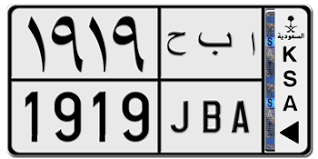1: (24, 16, 46, 143), (89, 15, 108, 143)
9: (113, 15, 150, 143), (51, 15, 83, 142)
A: (233, 32, 256, 133)
B: (197, 32, 233, 134)
J: (167, 31, 190, 134)
